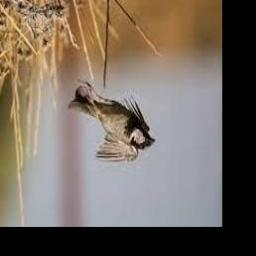Sparrow: (67, 80, 155, 163)
